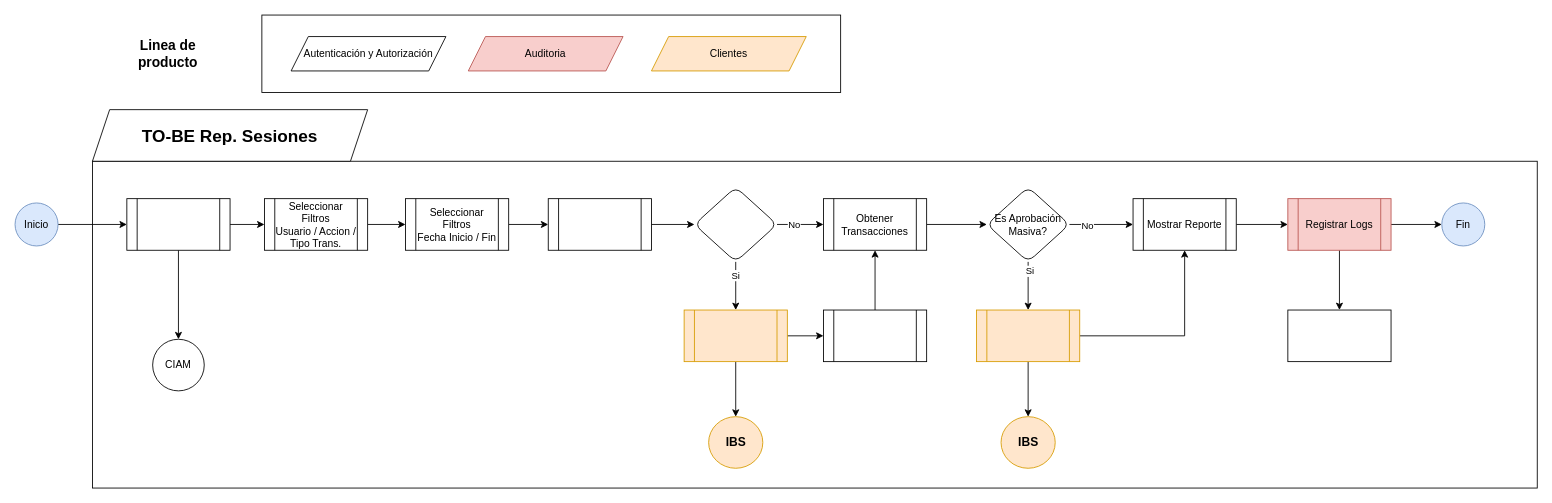
Image size: 1552x503. Some labels were removed from this diagram. Each missing label, with the centre of its shape:
Agregar filtro entidades asociadas: [875,335]
AWS S3: [1339,335]
Es Grupo Económico?: [735,224]
Obtener entidades asociadas: [735,335]
Obtener usuarios por RUC: [178,224]
Obterner Transacciones IBS: [1028,335]
Procesar reporte: [599,224]
